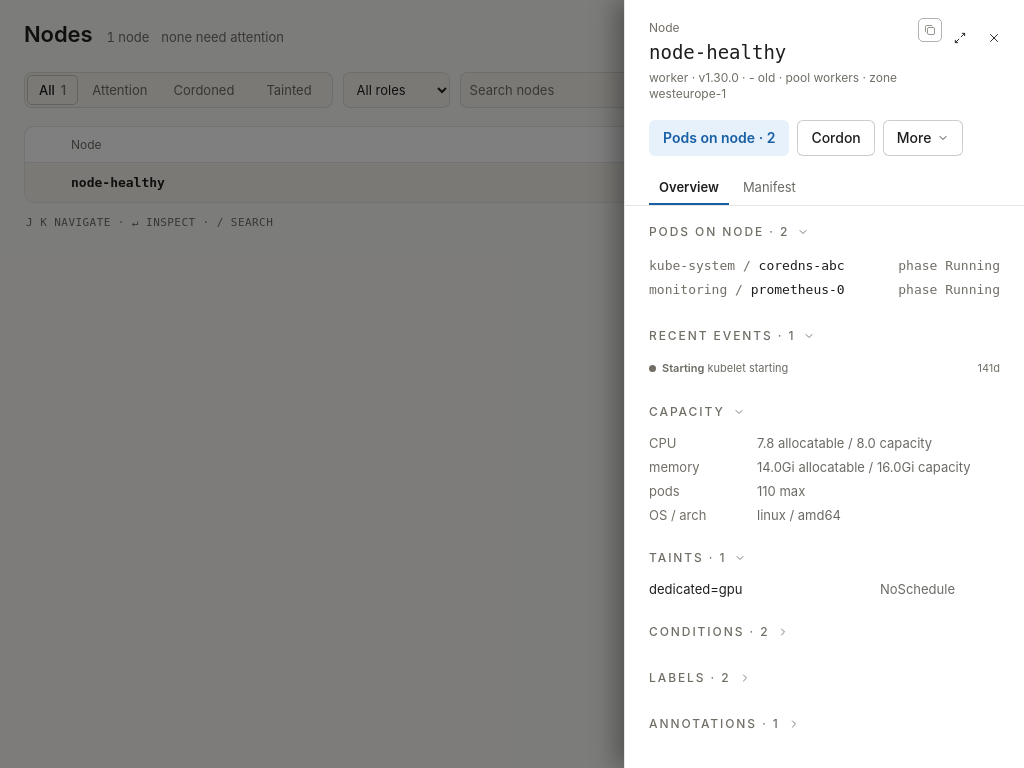
Scenario: NodesView › annotations section is collapsed by default, expandable
(page scrolled)
Expected: the text "cluster-autoscaler.kubernetes.io/scale-down-disabled=true" is not shown
Click the button "Annotations · 1".
click(703, 724)  # box 649,712 -> 1000,736
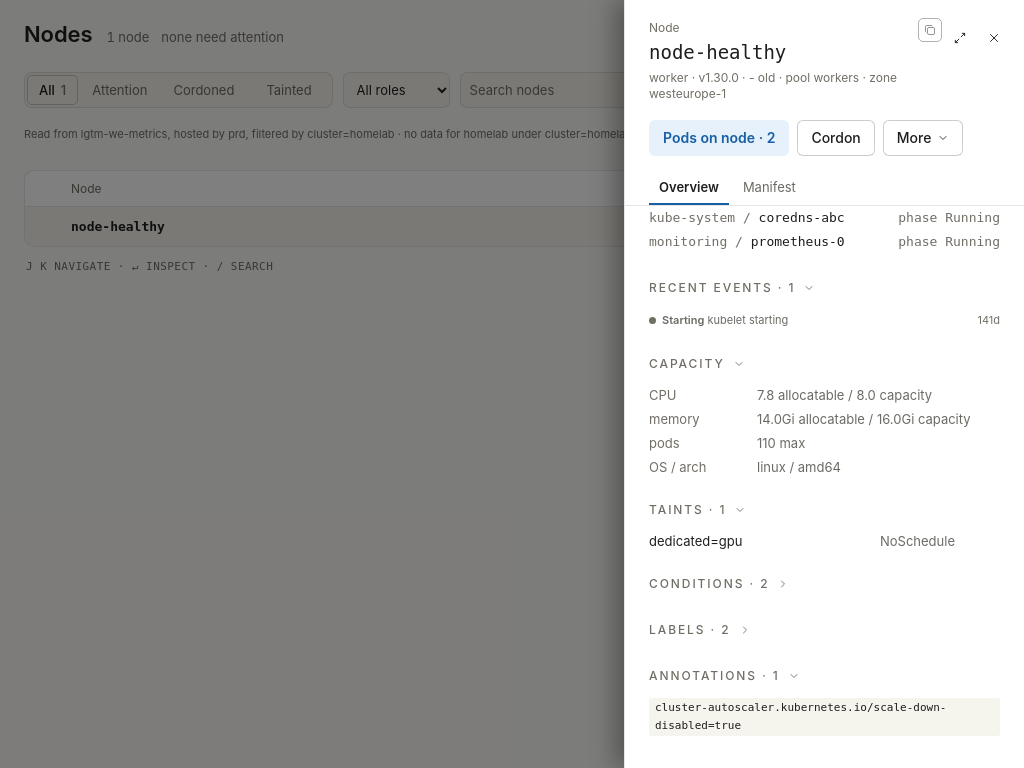
Expected: the text "cluster-autoscaler.kubernetes.io/scale-down-disabled=true" is shown, 649,698 -> 1000,736
